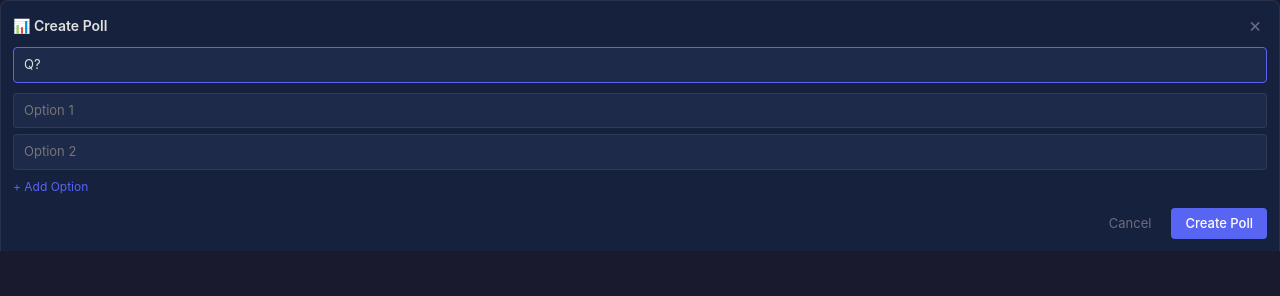
Test: PollForm › shows error when fewer than 2 valid options
Step 1. Type "Only one" into the field with placeholder "Option 1" → (640, 110), box [13,92,1267,128]
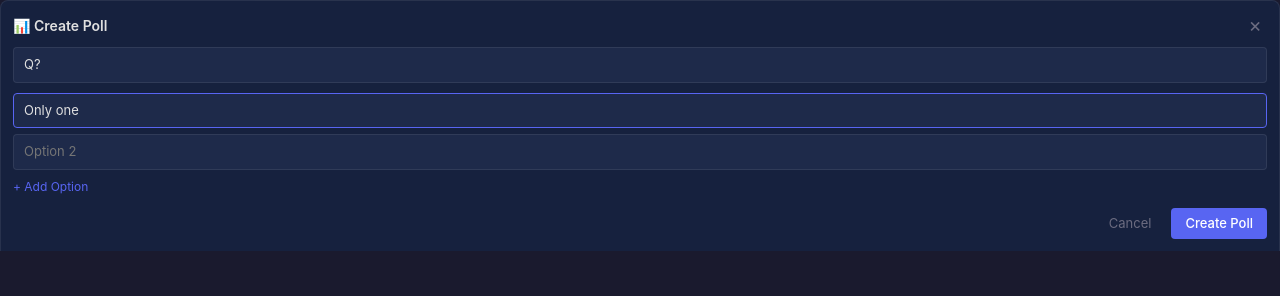
Option 2 left empty
Step 2. Click the button "Create Poll" → (1219, 223), box [1172,208,1267,239]
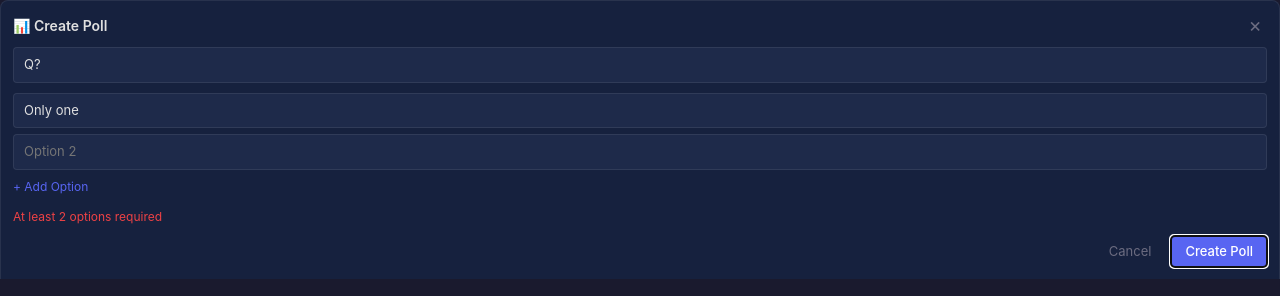
Now the text "At least 2 options required" is shown, box [13,208,162,224]
